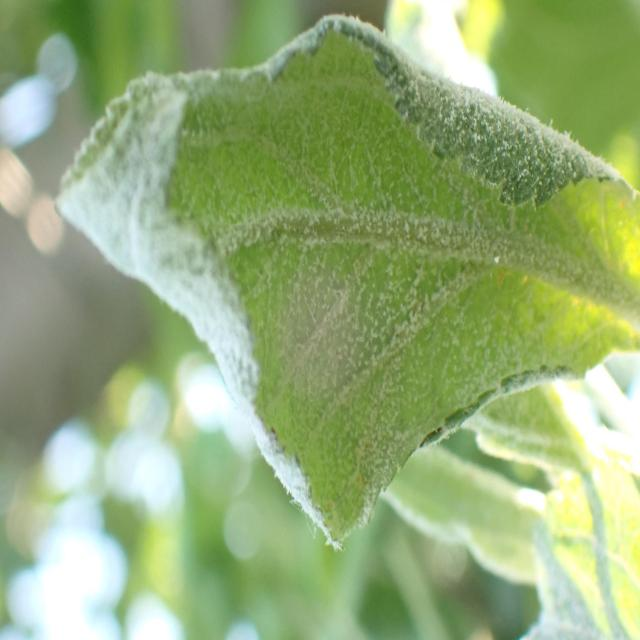Powdery_mildew: (50, 10, 640, 548)
